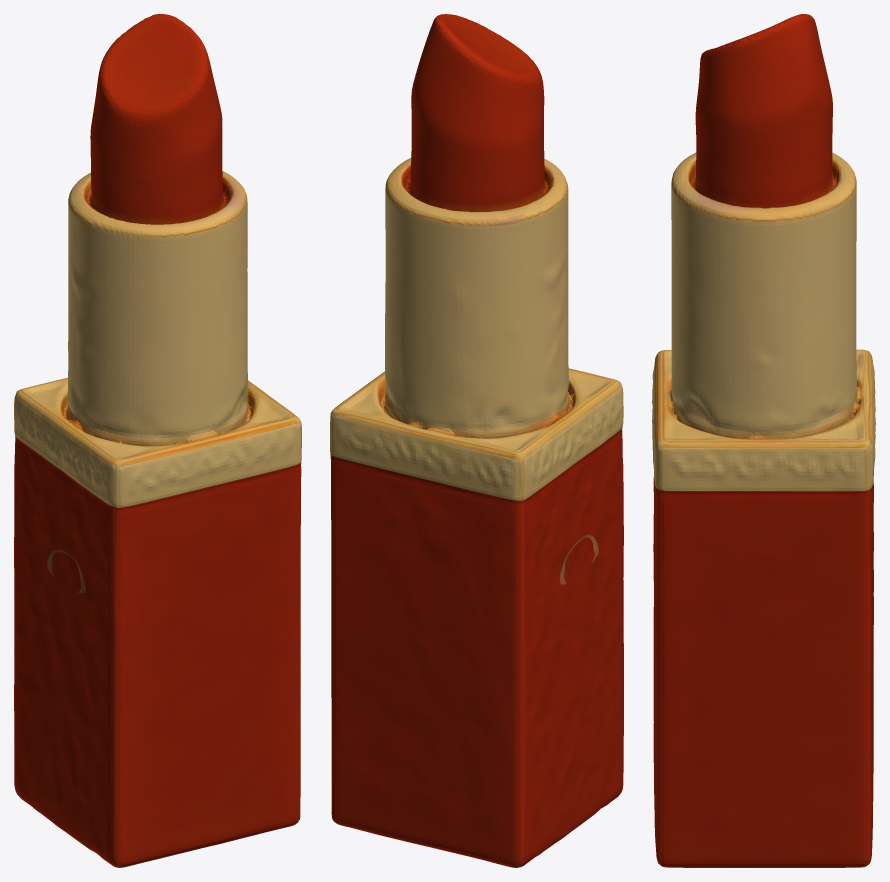
Rendered from lipstick.obj.
3 views of the same model, side by side, from view 1: azimuth 30°, elevation 25°; view 2: azimuth 150°, elevation 25°; view 3: azimuth 270°, elevation 25° (orthographic). The views are drawn at different scales.
Parts seen in each view (by area): view 1: material; view 2: material; view 3: material.
Boxes of the visible parts, x1,y1,x2,y2 form: material: (14,14,301,867); material: (330,14,623,867); material: (652,14,875,867).
Size of the model in its own units: 0.2967 by 1.14 by 0.2831.
Materials: 1 (1 with a texture image).
